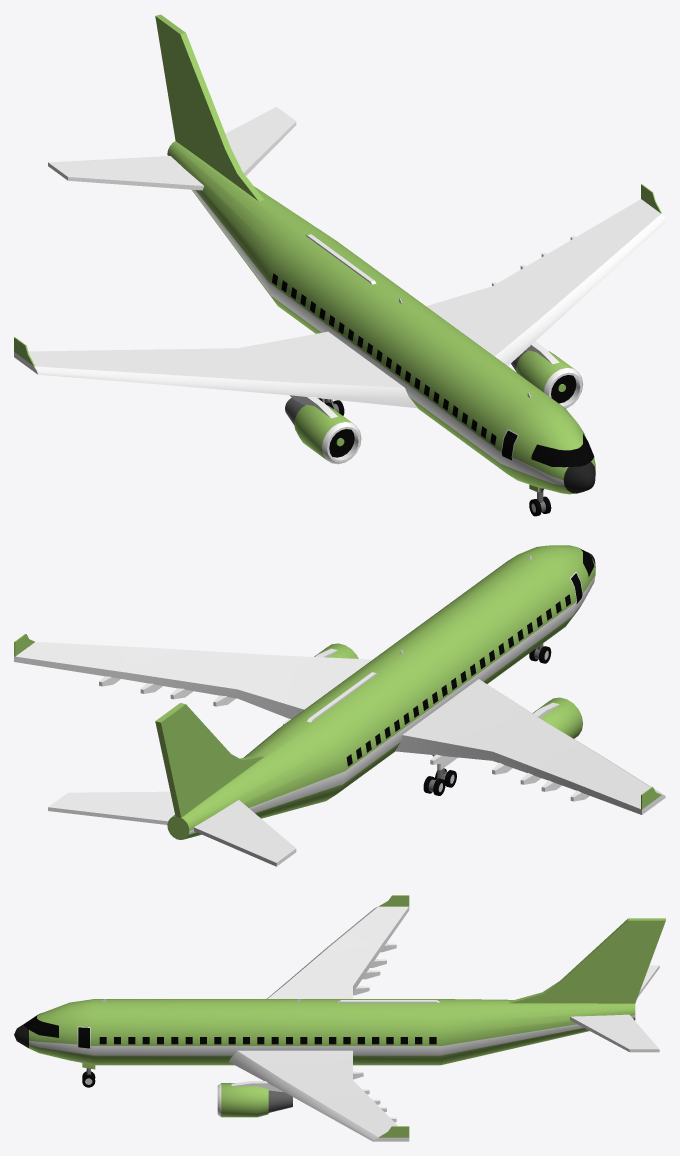
Rendered from Airplane(green).fbx.
3 renders of one model, top to bottom at view 1: azimuth 30°, elevation 25°; view 2: azimuth 150°, elevation 25°; view 3: azimuth 270°, elevation 25°, orthographic. The views are drawn at different scales.
Parts seen in each view (by area): view 1: Airplane; view 2: Airplane; view 3: Airplane.
Boxes of the visible parts, box(x1,y1,x2,y2) form: Airplane: box(14, 14, 665, 516); Airplane: box(14, 545, 665, 866); Airplane: box(14, 895, 665, 1141).
Bounding box in the file's own units: 4670 × 1558 × 5560.
Materials: 1 (1 with a texture image).
